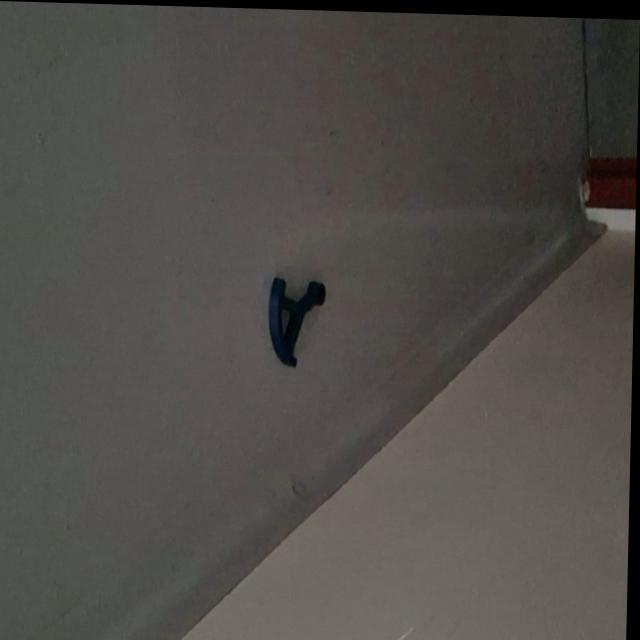haptic: (267, 274, 328, 369)
